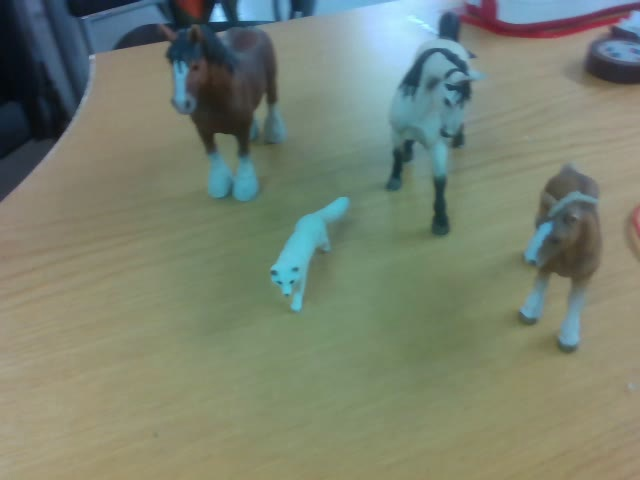toy: (383, 9, 486, 237), (157, 23, 287, 201), (517, 159, 603, 351), (267, 195, 352, 311)
